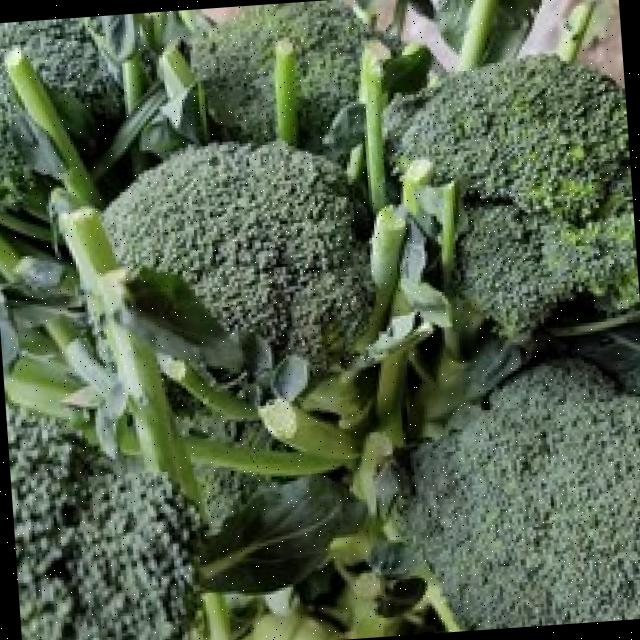Broccoli: (0, 0, 640, 640), (382, 57, 640, 630), (387, 56, 639, 332), (408, 358, 640, 630), (102, 140, 372, 369), (103, 140, 371, 351), (6, 410, 195, 640), (190, 0, 344, 147), (194, 140, 340, 270)
